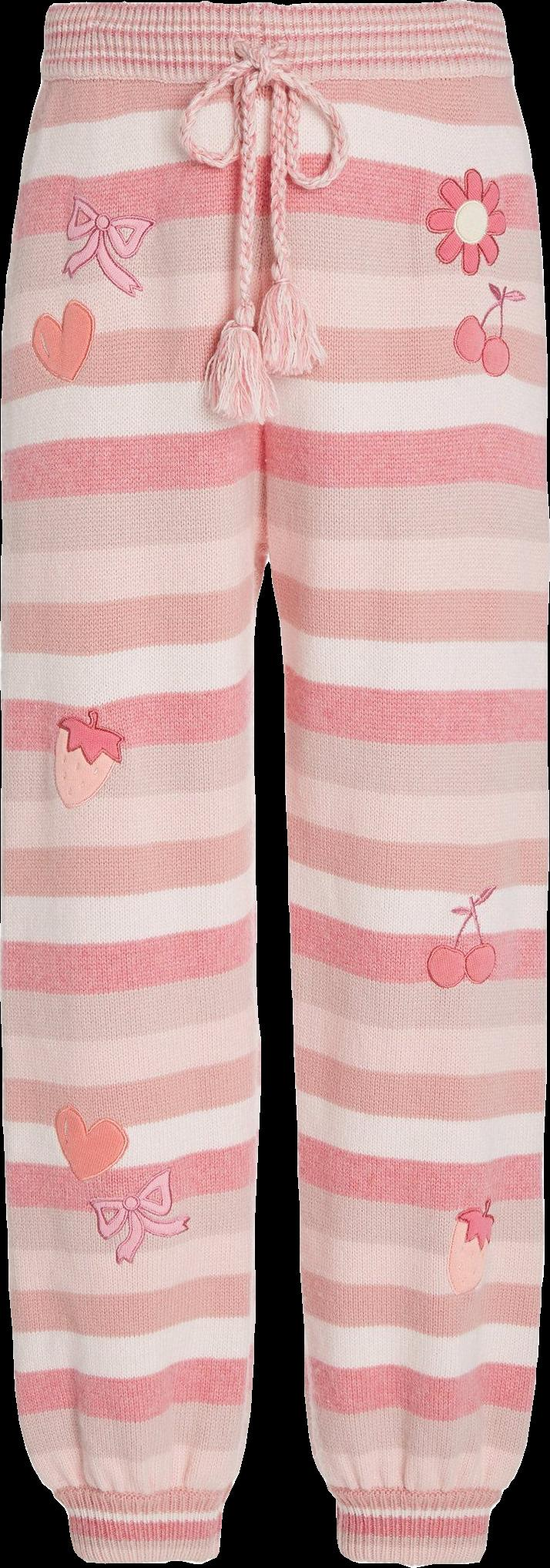Hemline: (336, 1539, 490, 1567), (72, 1543, 220, 1567)
Pantleg: (267, 0, 549, 1567), (0, 3, 270, 1563)
Waistline: (35, 48, 511, 83), (43, 0, 503, 23), (59, 1491, 233, 1525), (339, 1491, 495, 1522)
